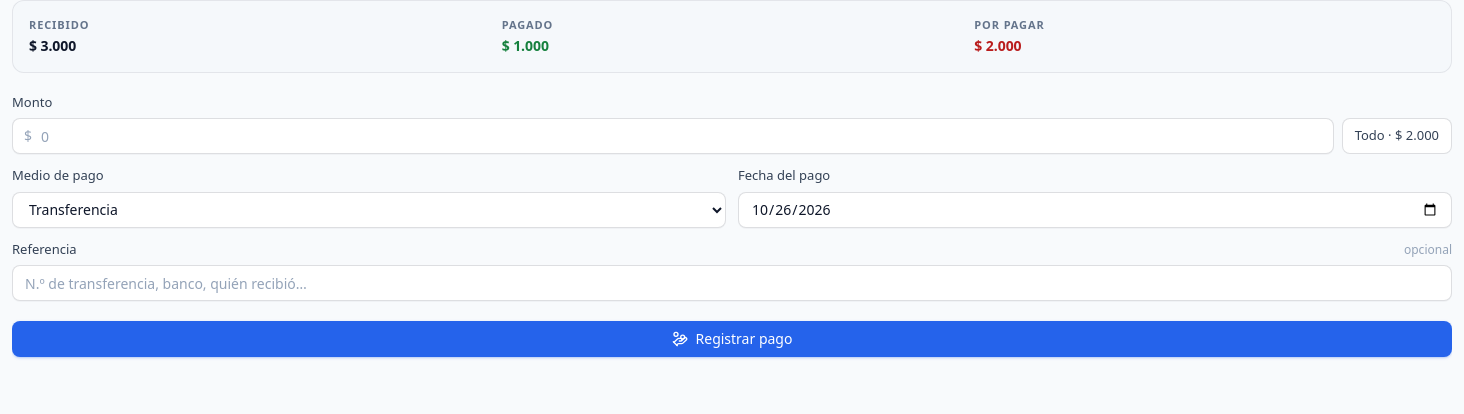
AddSupplierPaymentForm › allows paying ahead up to the purchase total, not more
Type "4500" into the number field labelled "Monto" at point(673, 136), box [12,118,1334,154]
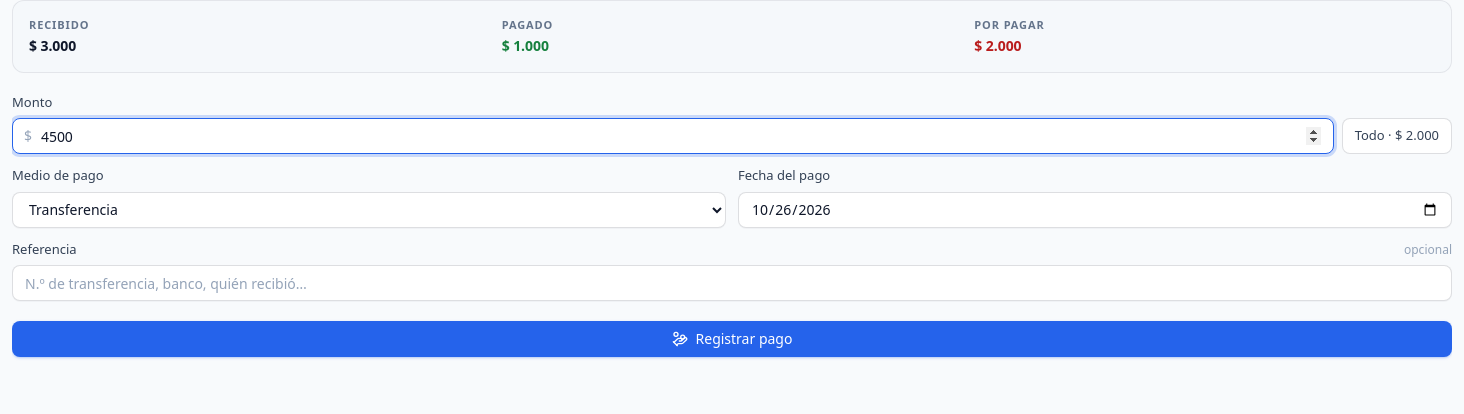
Click the button "Registrar pago" at point(732, 339), box [12,321,1452,357]
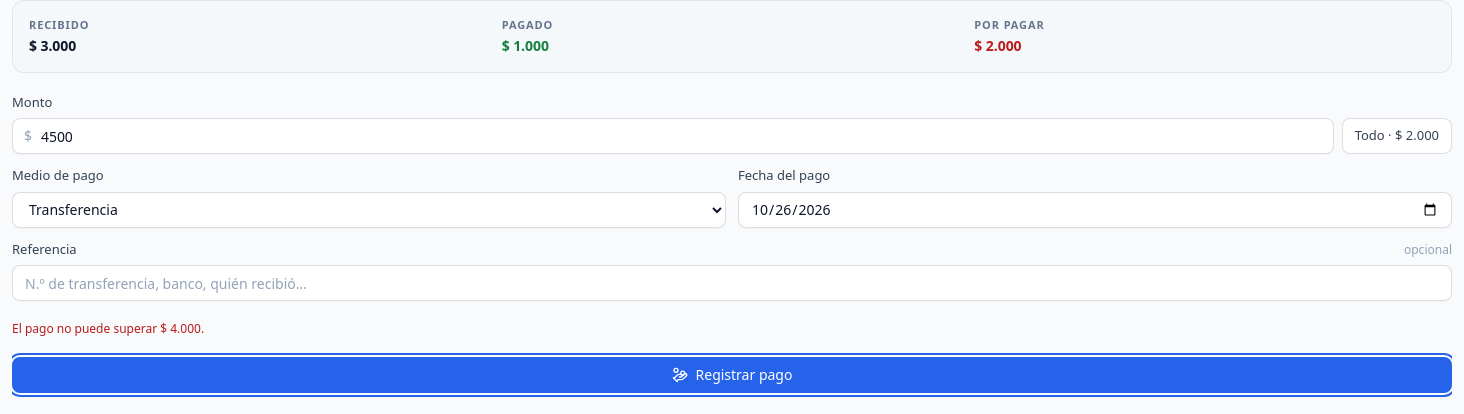
Expected: the text "El pago no puede superar $ 4.000." is shown, [12,320,204,337]
